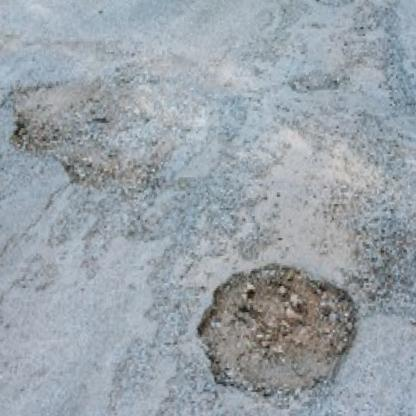pothole: (0, 70, 191, 213), (191, 258, 361, 408)
